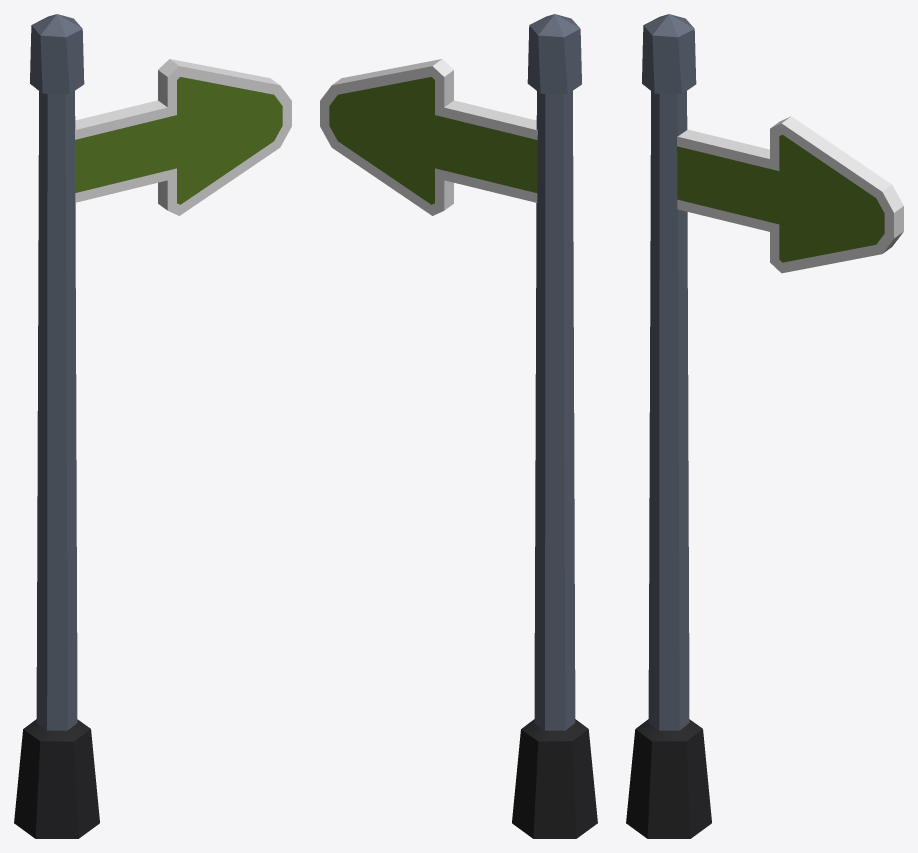
File: Road Sign 5.fbx
The picture shows the model from 3 angles, left to right: view 1: azimuth 30°, elevation 25°; view 2: azimuth 150°, elevation 25°; view 3: azimuth 330°, elevation 25°; orthographic projection.
Visible parts, largest first — view 1: Road_Sign_05; view 2: Road_Sign_05; view 3: Road_Sign_05.
Part boxes in pixels (bbox=[...]): Road_Sign_05: bbox=[14, 14, 291, 838]; Road_Sign_05: bbox=[320, 14, 597, 838]; Road_Sign_05: bbox=[626, 14, 903, 838].
Size of the model in its own units: 75.6 by 223 by 21.5.
